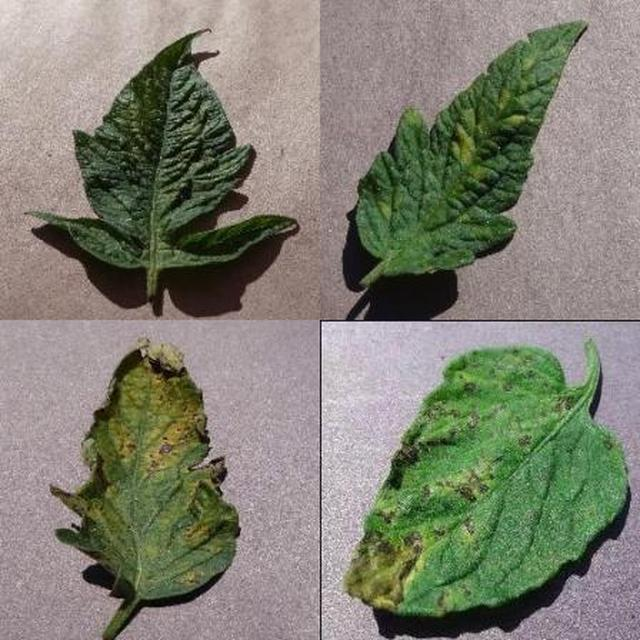Spider Mites Leaf: (208, 211, 640, 640)
